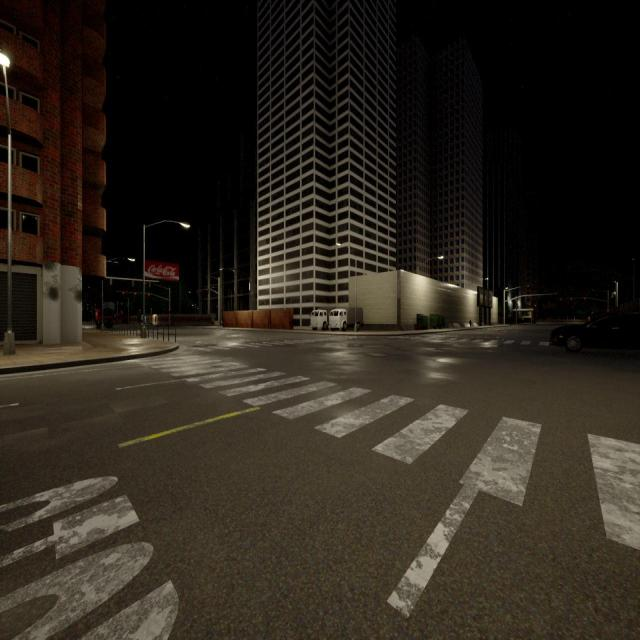Pedestrian: (469, 319, 472, 328)
Vehicle: (550, 312, 640, 350), (329, 307, 363, 331), (95, 308, 122, 328), (310, 307, 331, 331)
traffic_light: (206, 288, 208, 294), (607, 309, 609, 314), (122, 292, 125, 295), (560, 298, 562, 301), (570, 297, 572, 300), (134, 292, 136, 295), (148, 293, 150, 296), (169, 309, 170, 314), (584, 298, 586, 300)
